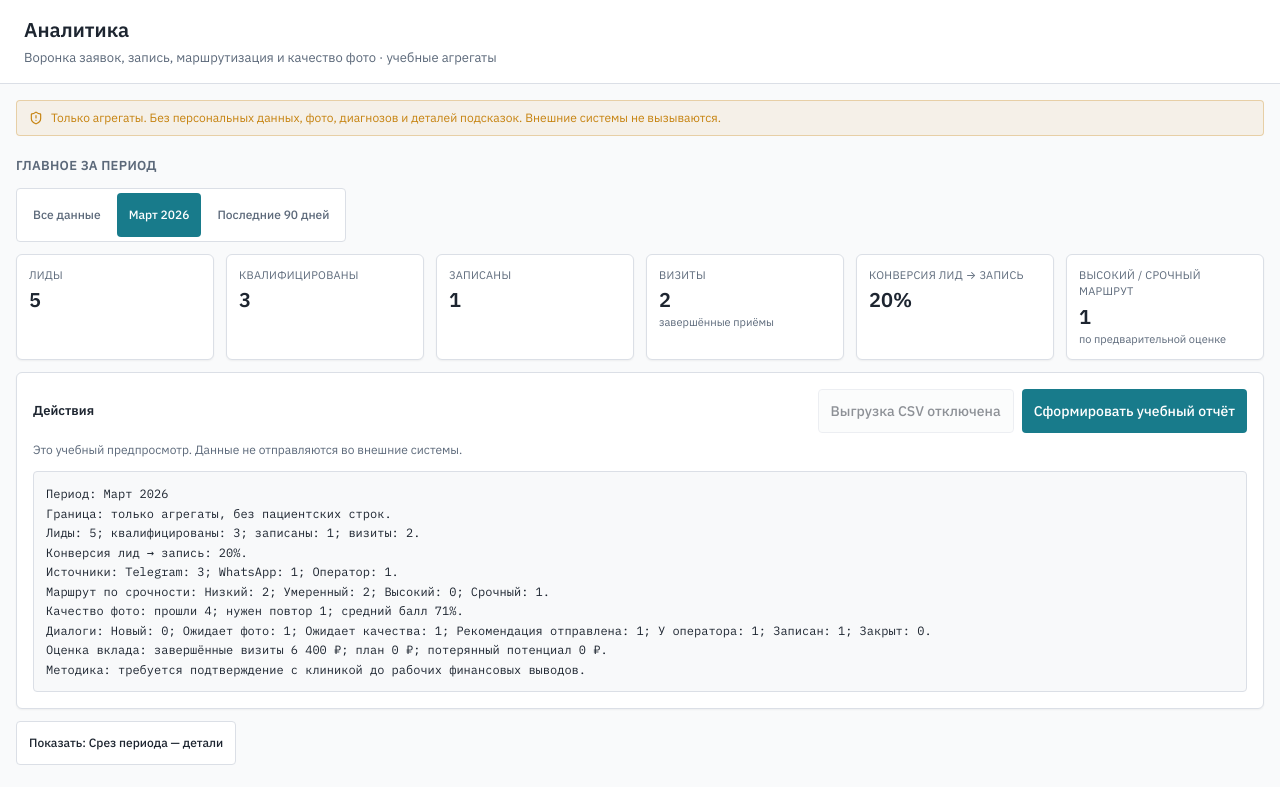
Test: AdminAnalyticsPage — учебные действия › заново формирует отчёт за каждый выбранный период и не возвращает старый при переключении назад
Earlier steps of the test are not shown.
Expected: the text named "Безопасный агрегатный предпросмотр отчёта" shows "Период: Март 2026", [46,486,932,676]
Click the tab "Все данные" at (67,214), box [21,192,113,236]
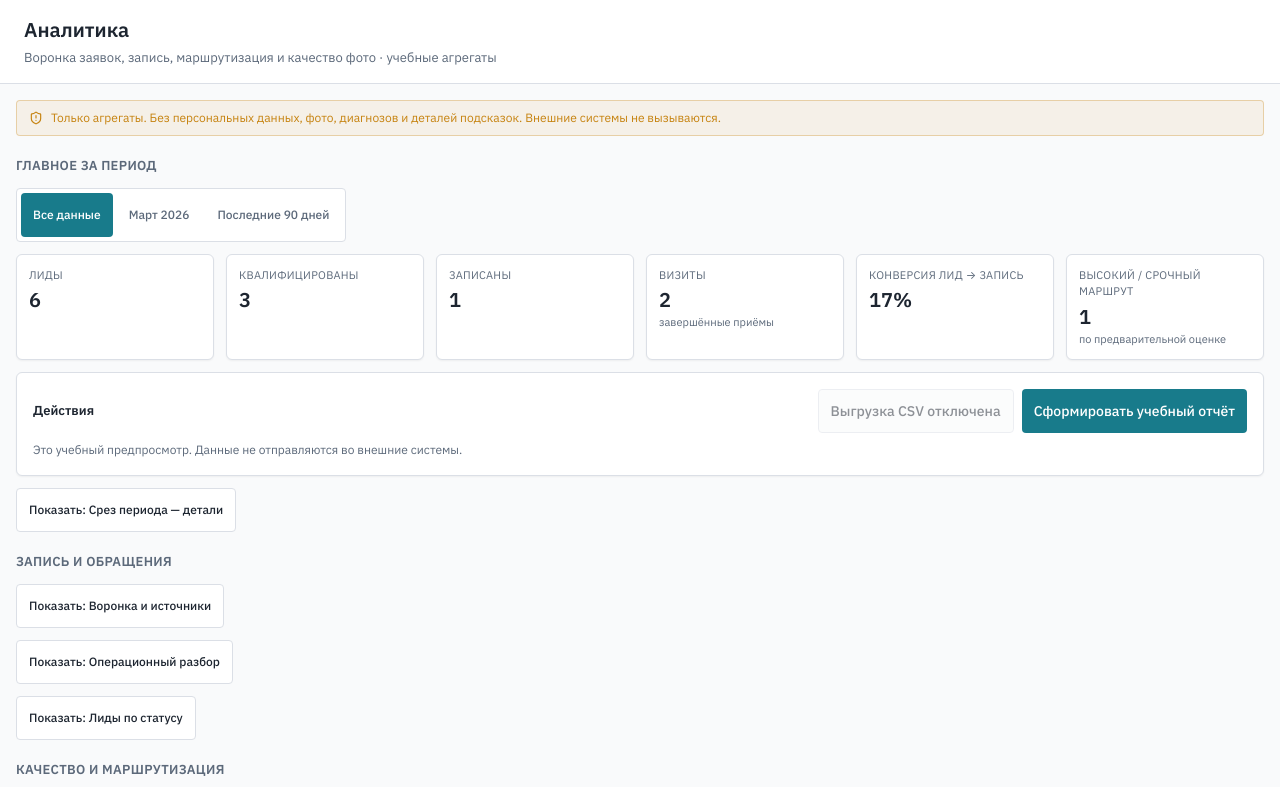
Click the button "Сформировать учебный отчёт" at (1134,411), box [1022,389,1247,433]
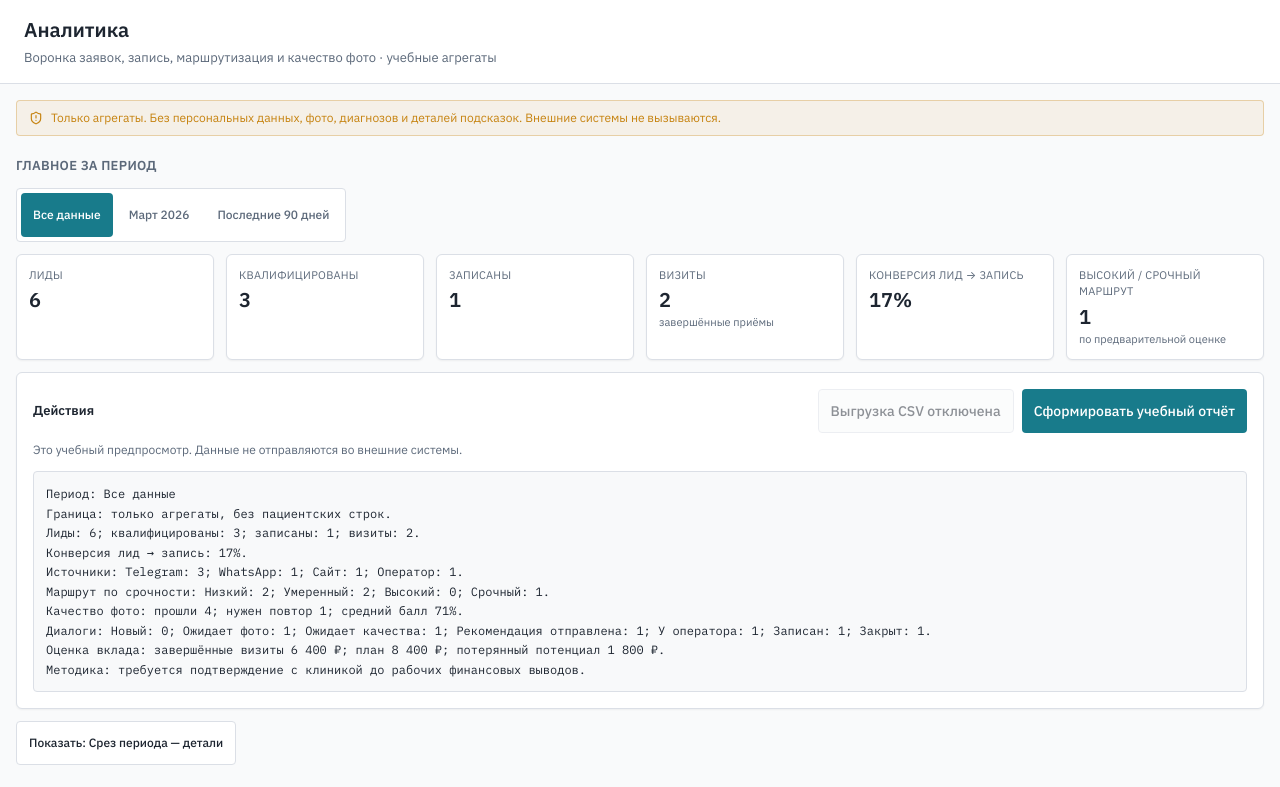
Expected: the text named "Безопасный агрегатный предпросмотр отчёта" shows "Период: Все данные", [46,486,932,676]
Click the tab "Последние 90 дней" at (273,214), box [205,192,341,236]
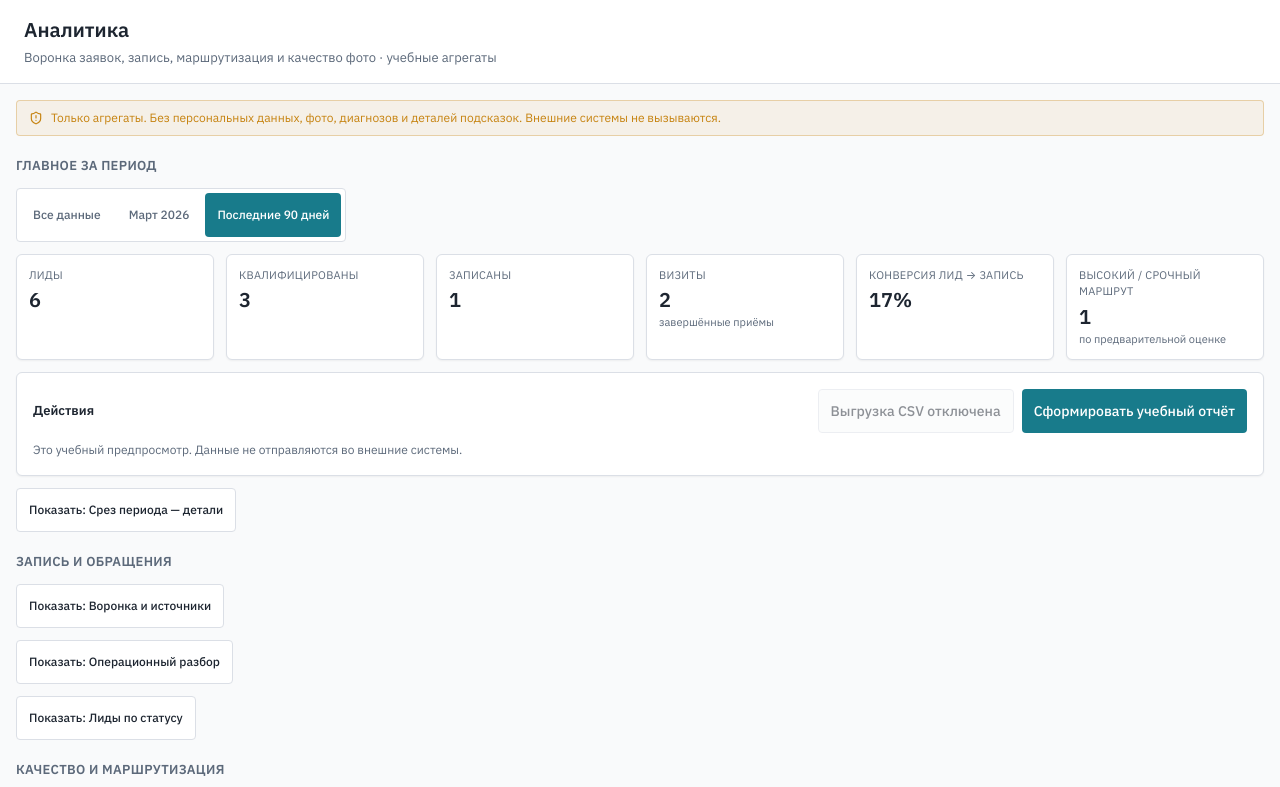
Click the button "Сформировать учебный отчёт" at (1134,411), box [1022,389,1247,433]
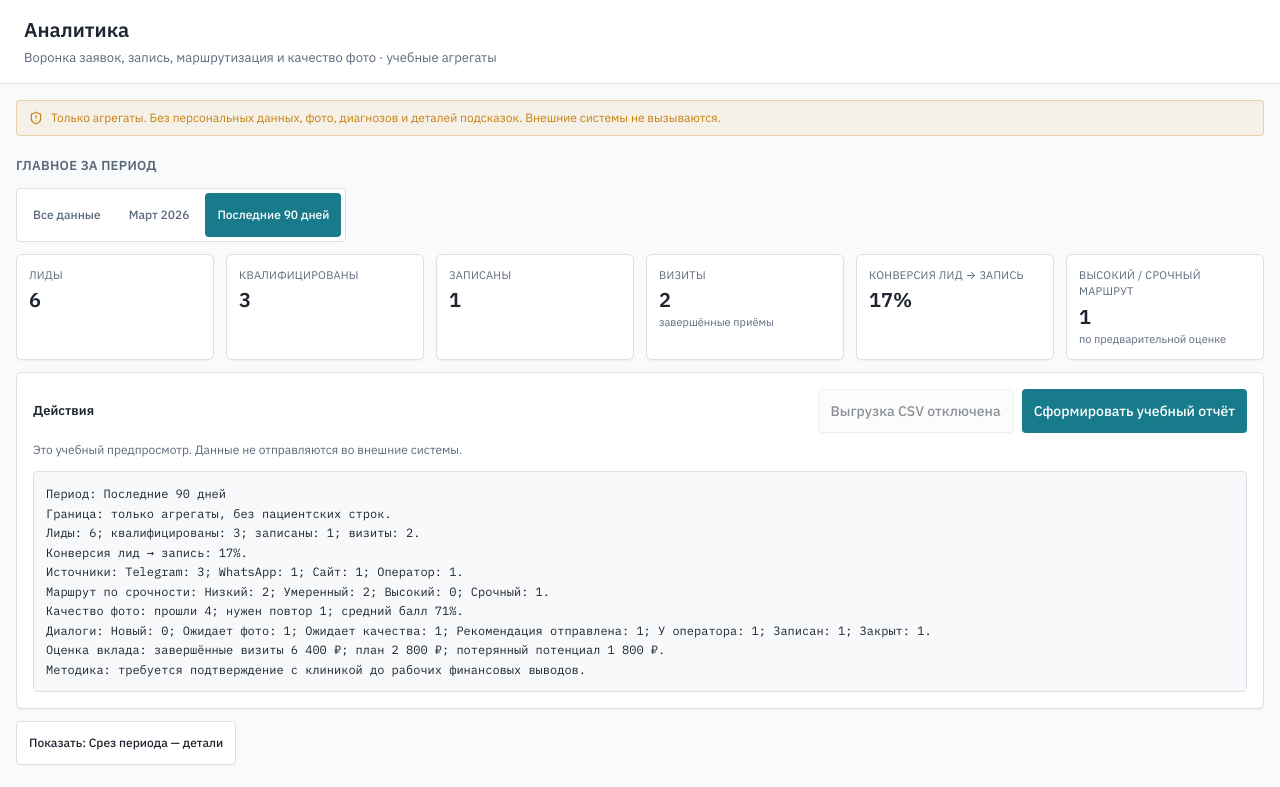
Expected: the text named "Безопасный агрегатный предпросмотр отчёта" shows "Период: Последние 90 дней", [46,486,932,676]
Click the tab "Март 2026" at (159,214), box [117,192,201,236]
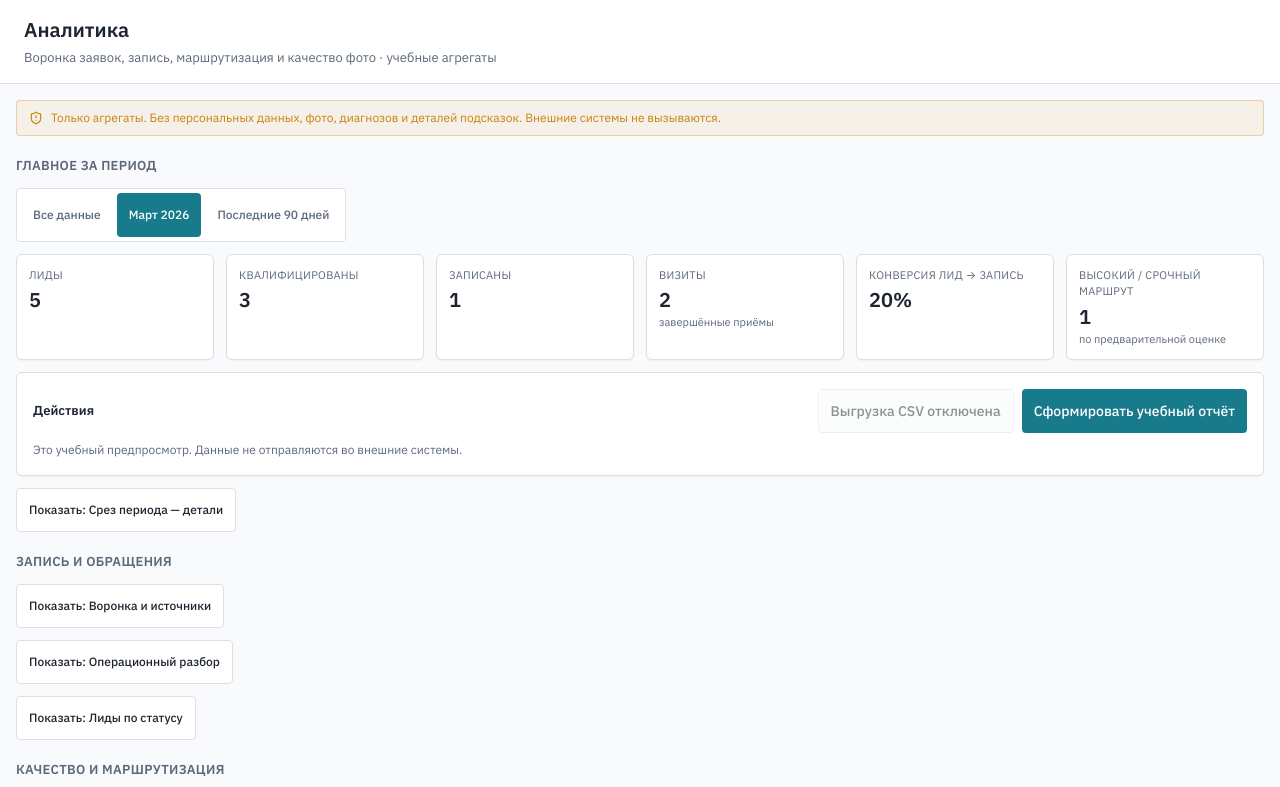
Click the button "Сформировать учебный отчёт" at (1134,411), box [1022,389,1247,433]
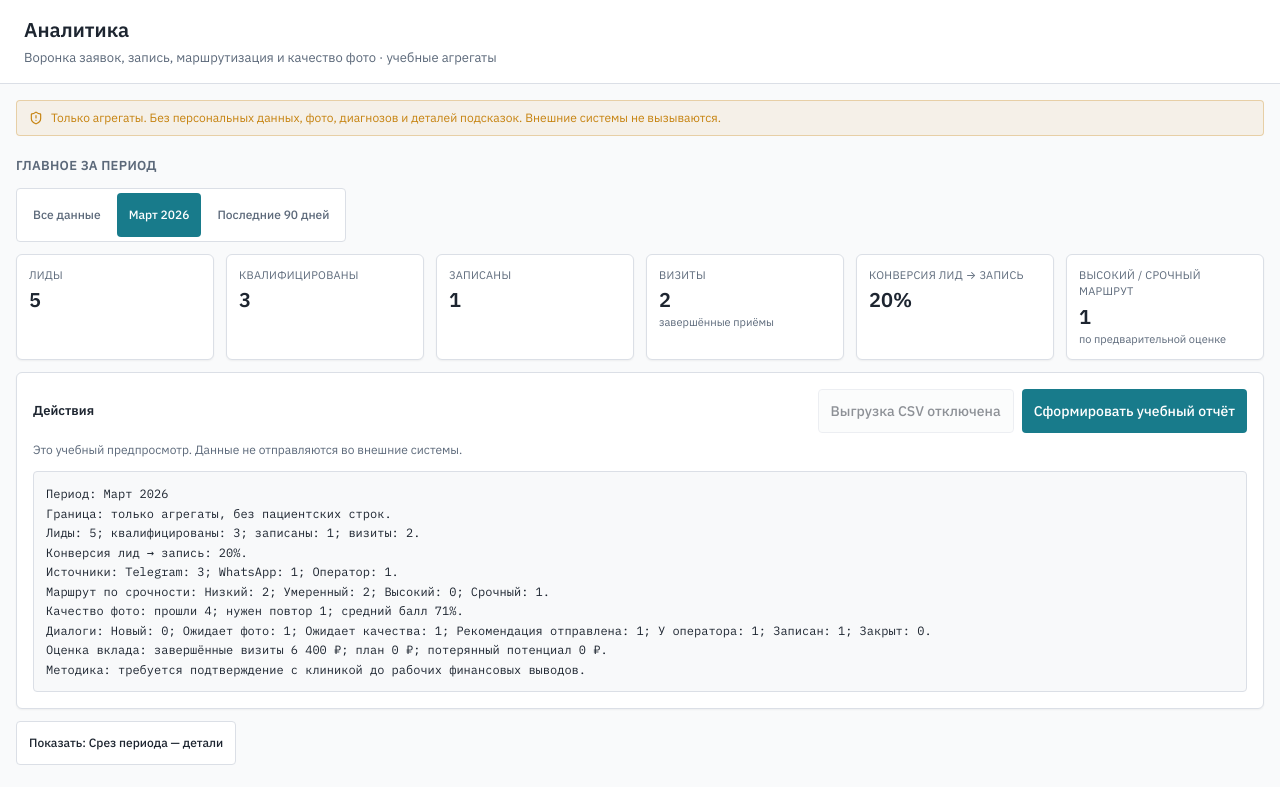
Expected: the text named "Безопасный агрегатный предпросмотр отчёта" shows "Период: Март 2026", [46,486,932,676]
